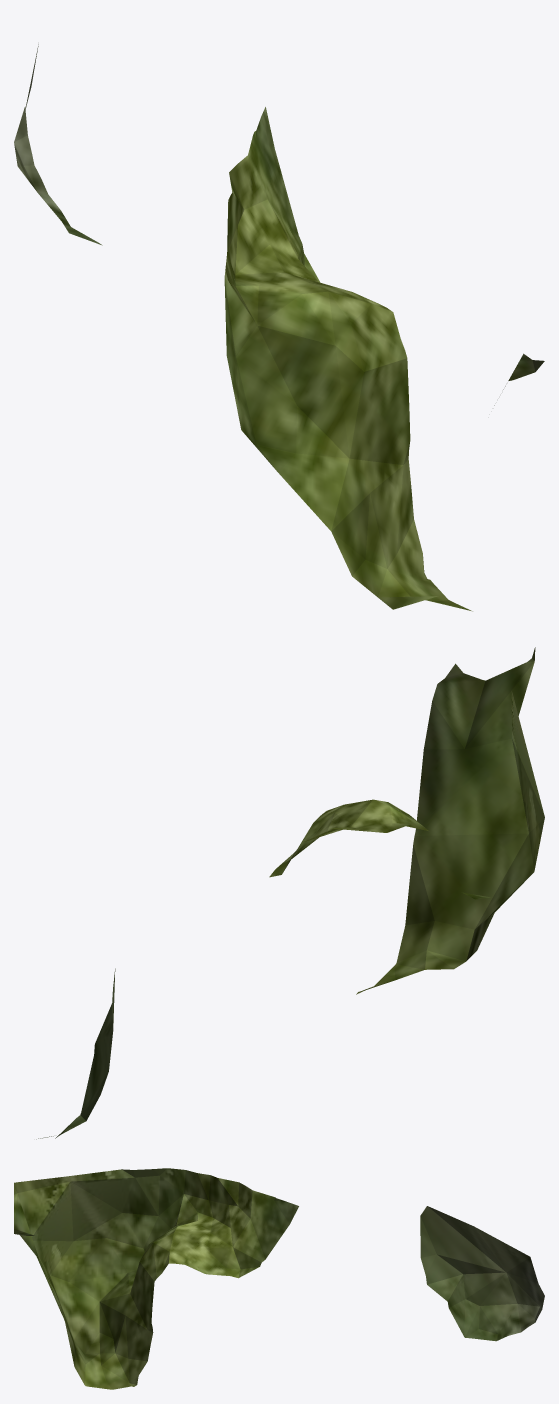
The picture shows the model from 3 angles, top to bottom: view 1: azimuth 30°, elevation 25°; view 2: azimuth 150°, elevation 25°; view 3: azimuth 270°, elevation 25°; orthographic projection. The views are drawn at different scales.
Bounding box in the file's own units: 0.585 × 1.12 × 2.92.
1 material, 1 textured.
